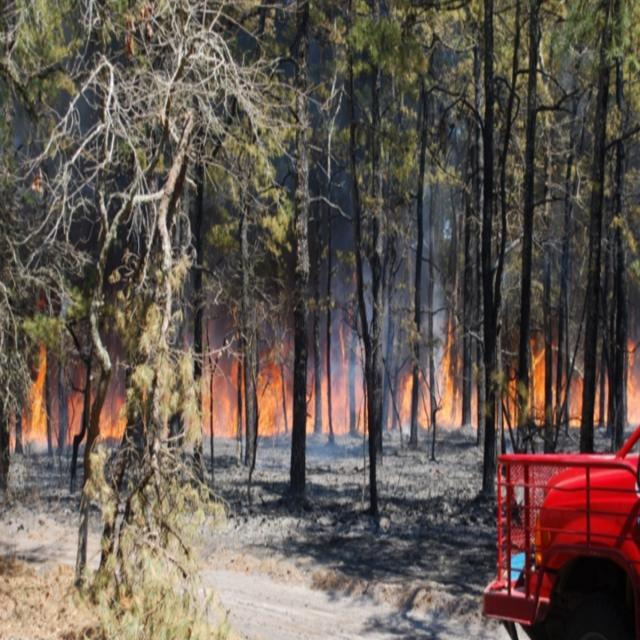Fire: (23, 319, 640, 439)
Smoke: (323, 200, 451, 430)
